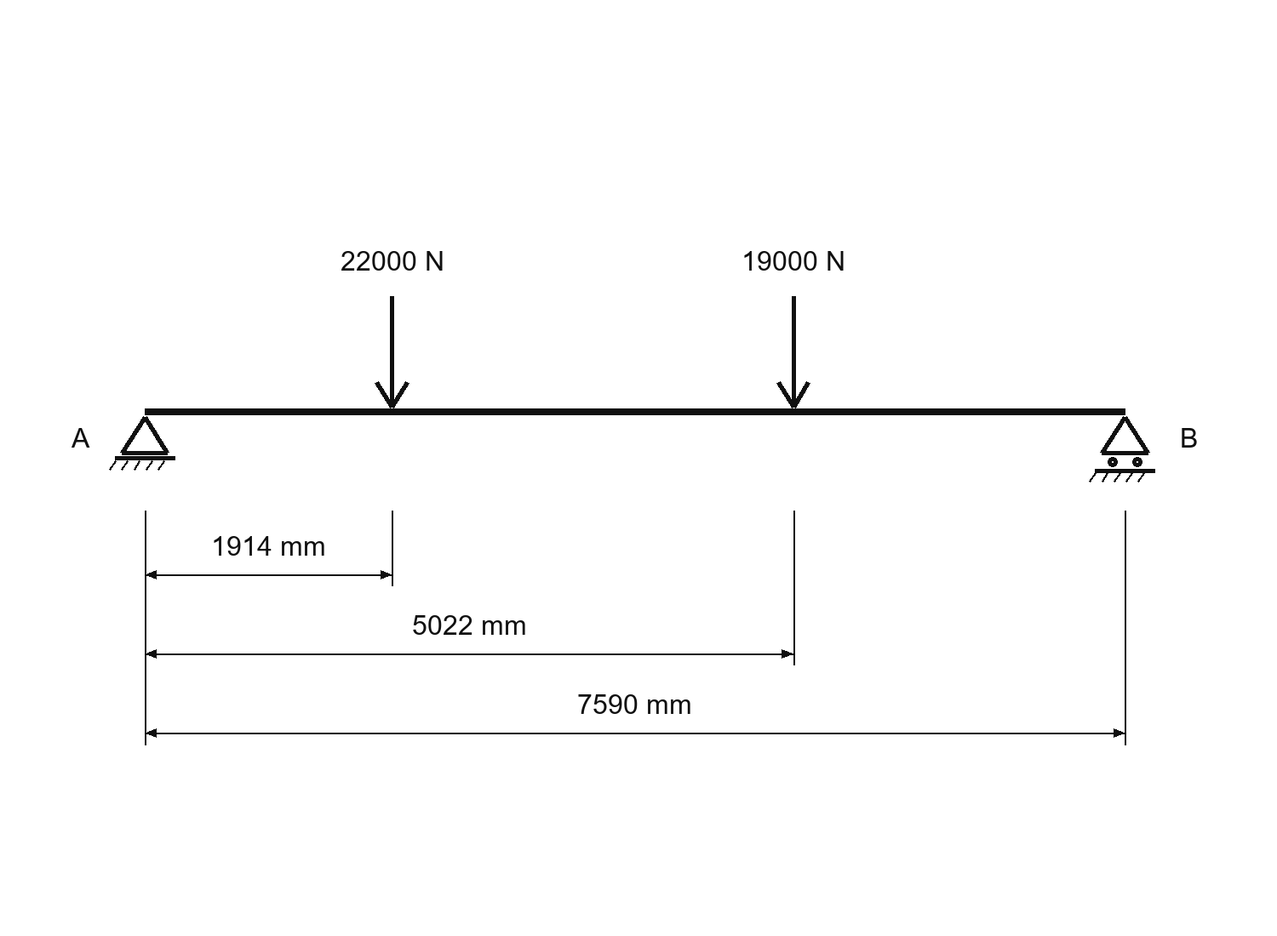pin_support: (109, 416, 175, 471)
point_load: (375, 296, 409, 408), (776, 296, 810, 408)
roller_support: (1089, 416, 1155, 482)
